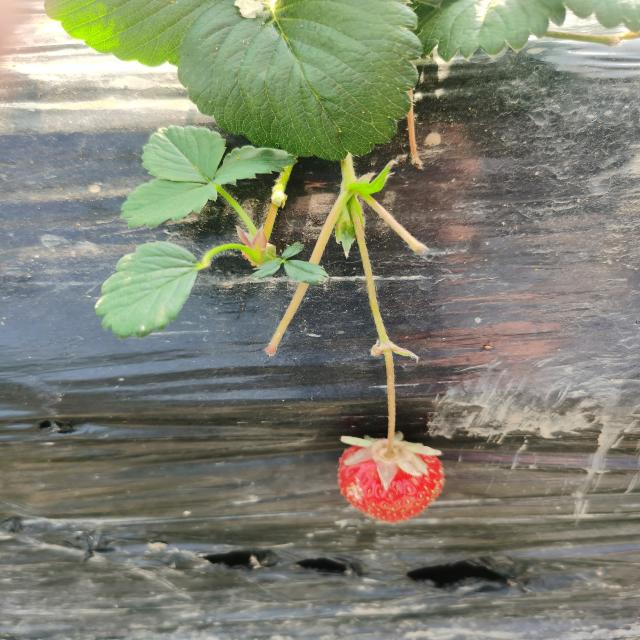stem: (385, 409, 396, 458)
strawberry: (338, 439, 445, 523)
